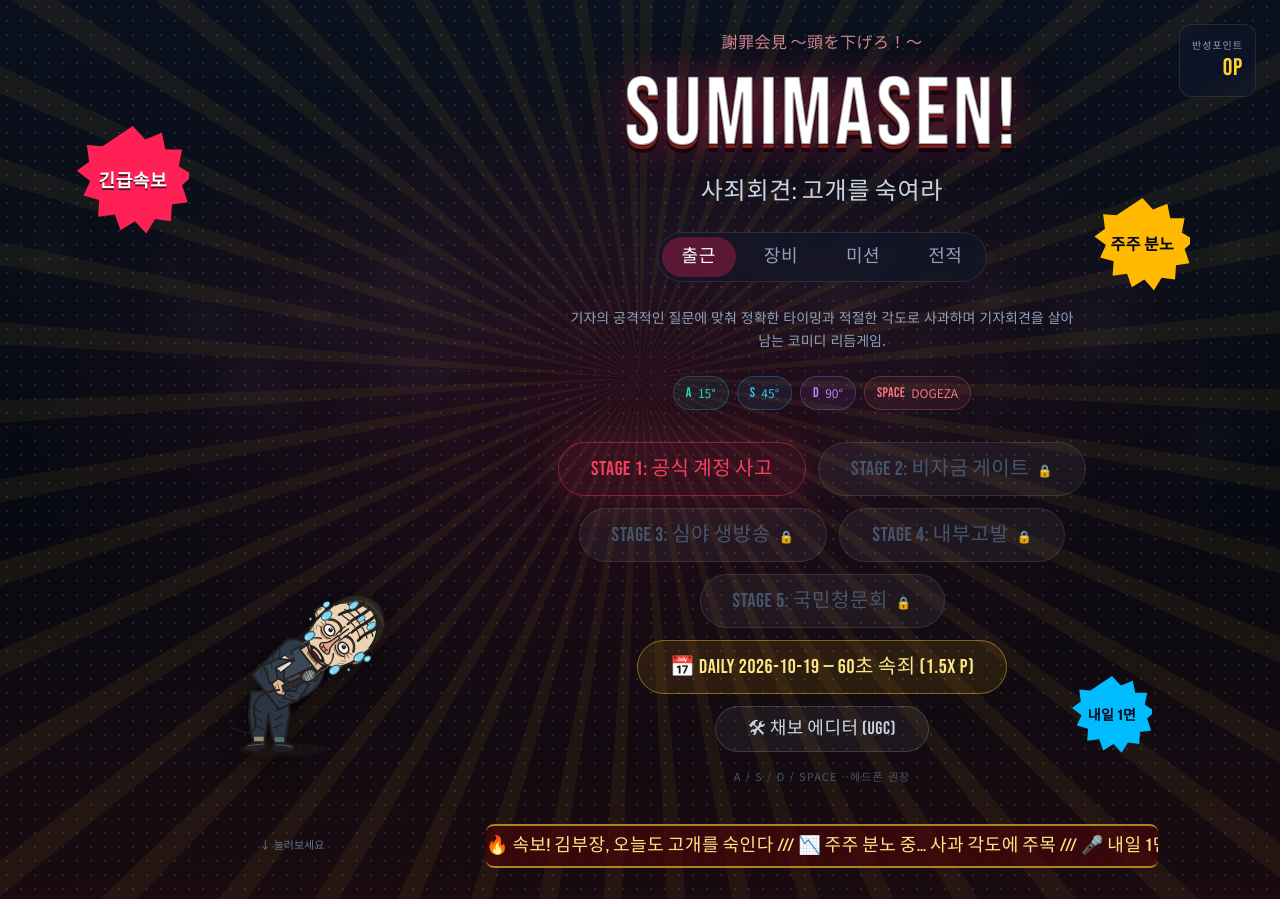
TitleScreen › 상점: 장착 중인 스킬은 해제 버튼과 장착 중 배지를 보인다
Click the button "장비": (781, 257) [744,237,818,277]
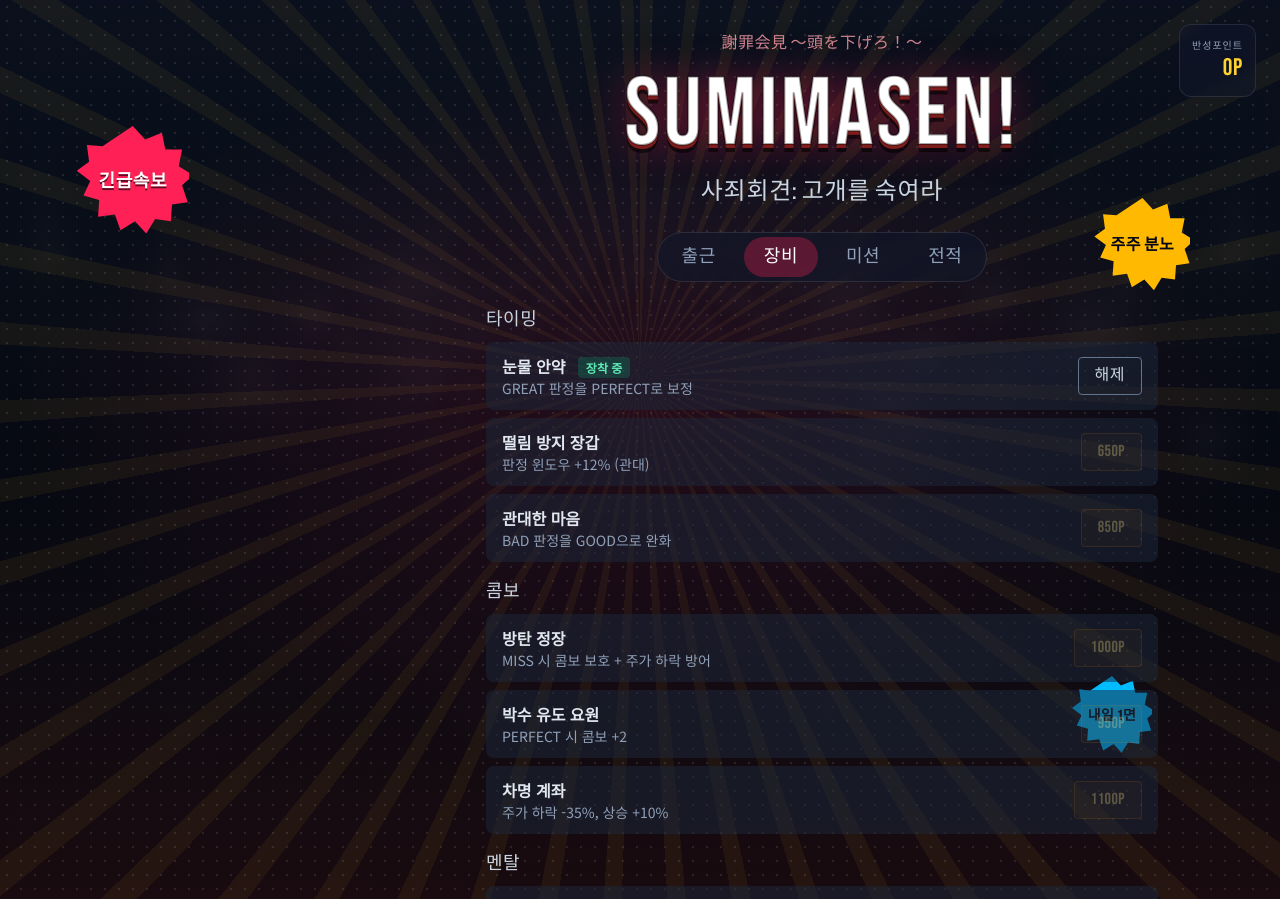
Now the button "해제" is shown, box [1078,357,1142,395]
Now the text "장착 중" is shown, box [578,357,630,378]
